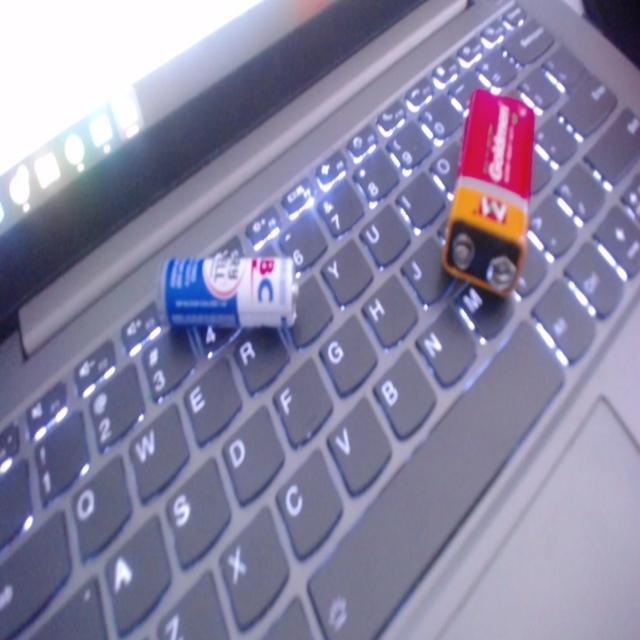9V: (440, 84, 534, 296)
AA: (152, 234, 306, 344)
